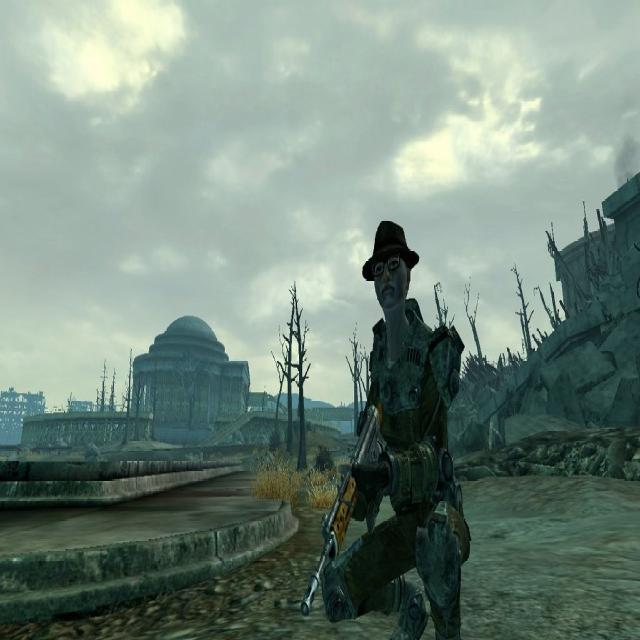Weapon: (290, 377, 402, 604)
